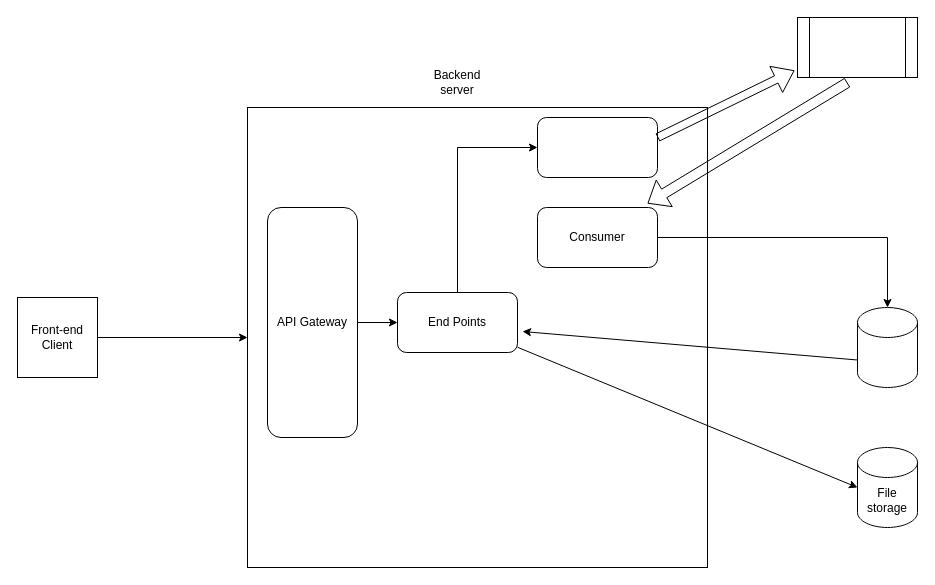
This 935x585 diagram has some shape labels left out. Here are the shapes that lost their labels. From the top down, the centre of each, then its label:
At point 857,47: "KAFKA QUEUE".
At point 597,147: "Producer".
At point 887,347: "Relational DB".
